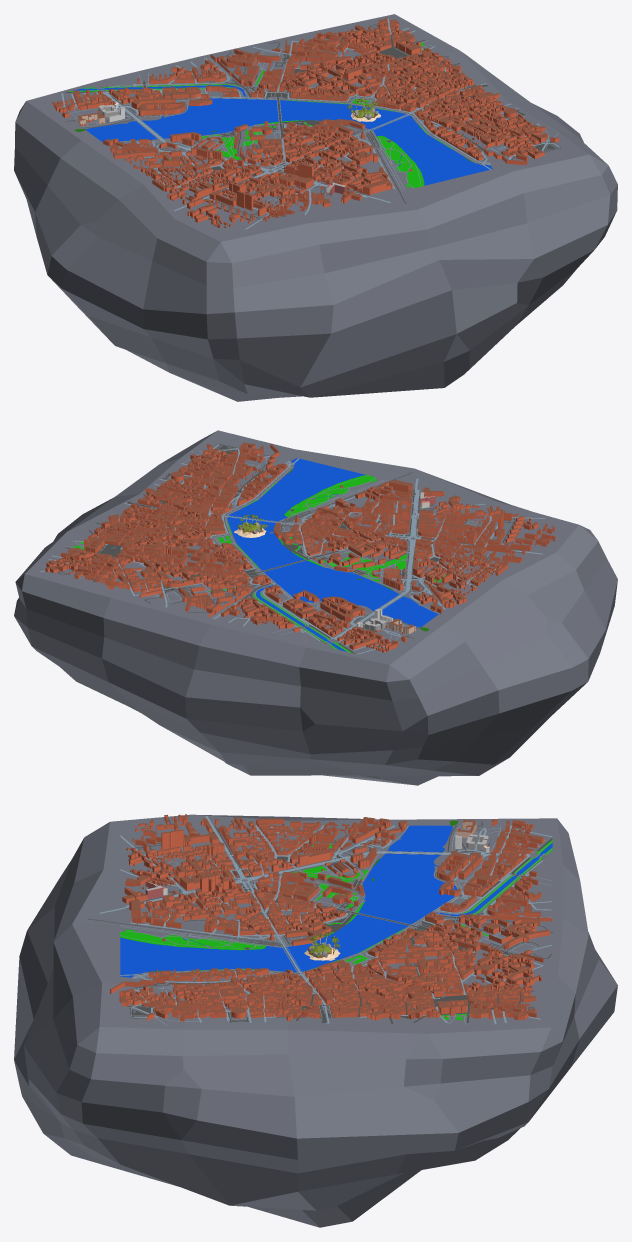
The model's file is toulouseMap.glb.
3 views of the same model, one above another, from view 1: azimuth 30°, elevation 25°; view 2: azimuth 150°, elevation 25°; view 3: azimuth 270°, elevation 25° (orthographic). The views are drawn at different scales.
Parts seen in each view (by area): view 1: stone, map_3.osm_buildings, map_3.osm_water, map_3.osm_roads_tertiary, map_3.osm_forest; view 2: stone, map_3.osm_buildings, map_3.osm_water, map_3.osm_roads_tertiary, map_3.osm_forest, Island; view 3: stone, map_3.osm_buildings, map_3.osm_water, map_3.osm_roads_tertiary, map_3.osm_forest, Island.
Boxes of the visible parts, bbox=[...] form: stone: bbox=[14, 14, 617, 401]; map_3.osm_buildings: bbox=[52, 17, 559, 228]; map_3.osm_water: bbox=[72, 85, 492, 185]; map_3.osm_roads_tertiary: bbox=[61, 18, 560, 229]; map_3.osm_forest: bbox=[68, 42, 473, 188]; stone: bbox=[14, 430, 617, 785]; map_3.osm_buildings: bbox=[45, 442, 555, 652]; map_3.osm_water: bbox=[227, 458, 438, 651]; map_3.osm_roads_tertiary: bbox=[40, 443, 554, 654]; map_3.osm_forest: bbox=[73, 468, 445, 653]; Island: bbox=[234, 514, 268, 537]; stone: bbox=[14, 814, 617, 1227]; map_3.osm_buildings: bbox=[110, 814, 552, 1021]; map_3.osm_water: bbox=[120, 825, 552, 977]; map_3.osm_roads_tertiary: bbox=[87, 816, 552, 1025]; map_3.osm_forest: bbox=[120, 820, 552, 1020]; Island: bbox=[304, 932, 340, 960].
Size of the model in its own units: 5.32 by 2.4 by 4.56.
Materials: 21 (1 with a texture image).
